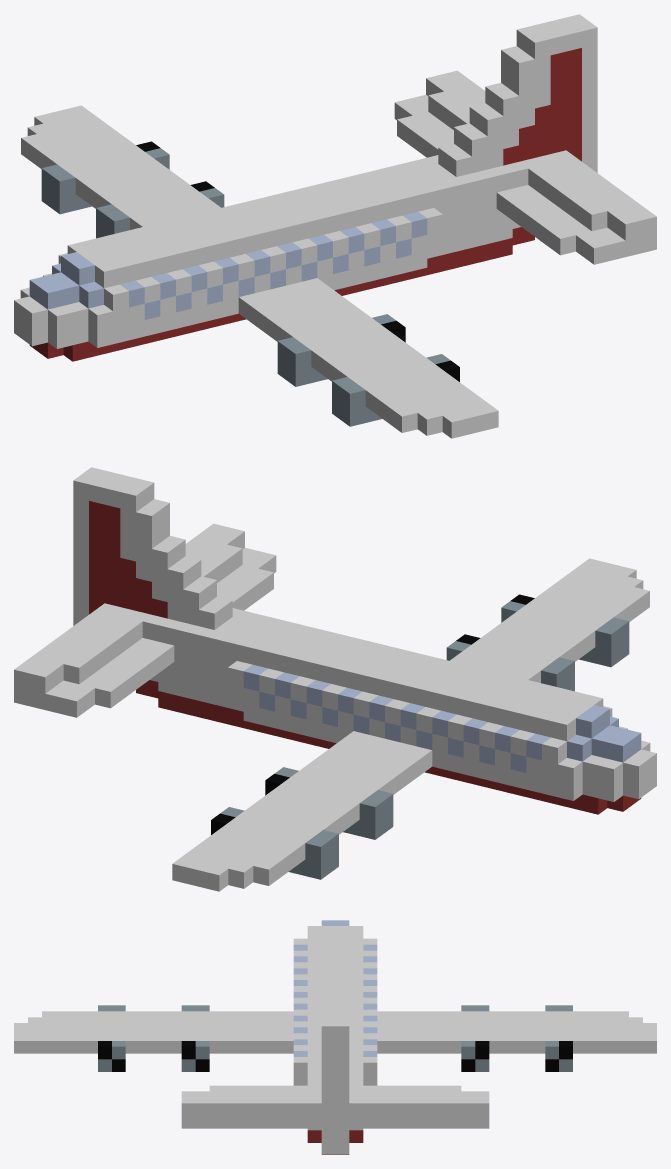
The model's file is small_plane.gltf.
3 views of the same model, one above another, from view 1: azimuth 30°, elevation 25°; view 2: azimuth 150°, elevation 25°; view 3: azimuth 270°, elevation 25° (orthographic). The views are drawn at different scales.
Parts seen in each view (by area): view 1: Layer.1; view 2: Layer.1; view 3: Layer.1.
Boxes of the visible parts, bbox=[...] form: Layer.1: bbox=[14, 14, 656, 438]; Layer.1: bbox=[14, 467, 656, 891]; Layer.1: bbox=[14, 920, 656, 1154].
Bounding box in the file's own units: 36 × 12 × 46.
